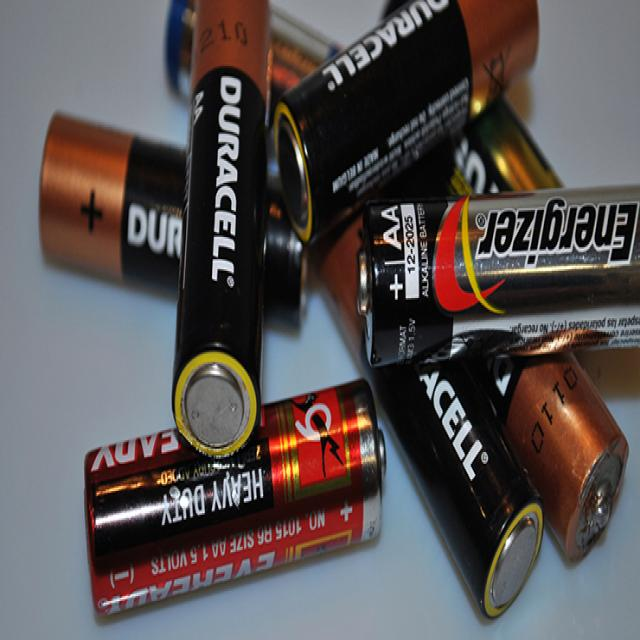non-organic waste: (84, 373, 388, 620), (273, 0, 540, 249), (39, 106, 310, 330), (357, 181, 640, 368), (172, 0, 269, 460)
